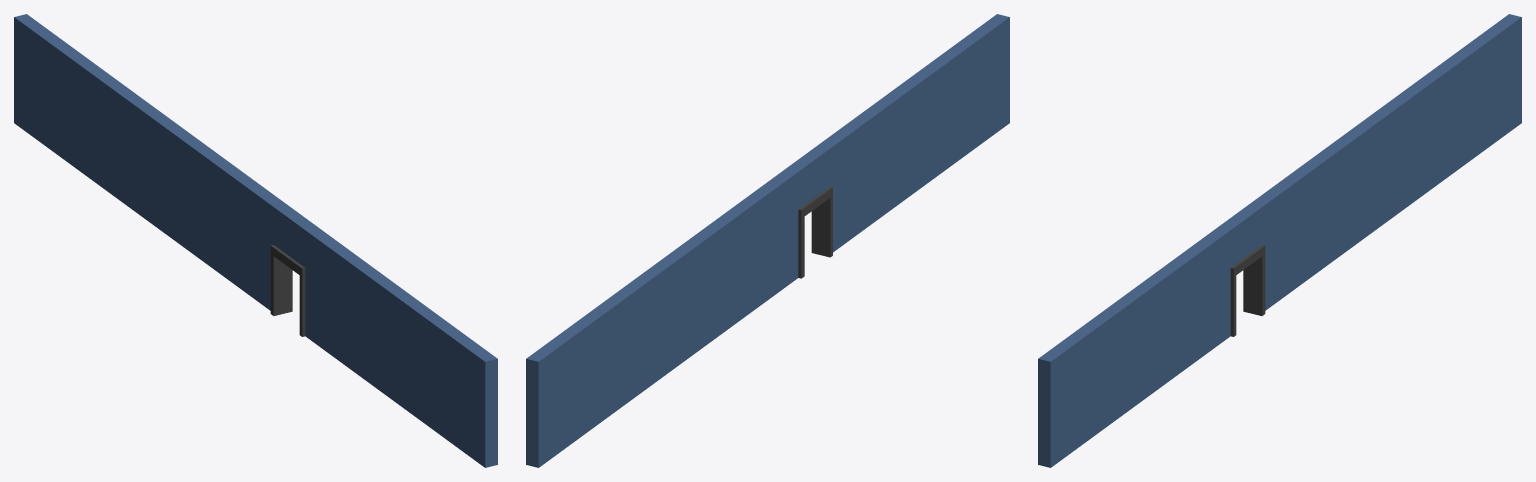
The model's file is Structure_Wall_TopFloorRight_fbx_v01.fbx.
The picture shows the model from 3 angles, left to right: view 1: azimuth 30°, elevation 25°; view 2: azimuth 150°, elevation 25°; view 3: azimuth 330°, elevation 25°; orthographic projection.
Parts seen in each view (by area): view 1: Wall_TopFloor_Right1; view 2: Wall_TopFloor_Right1; view 3: Wall_TopFloor_Right1.
Part boxes in pixels (x1,y1,x2,y2): Wall_TopFloor_Right1: [14, 14, 497, 467]; Wall_TopFloor_Right1: [526, 14, 1009, 467]; Wall_TopFloor_Right1: [1038, 14, 1521, 467].
Bounding box in the file's own units: 149 × 802 × 6450.
